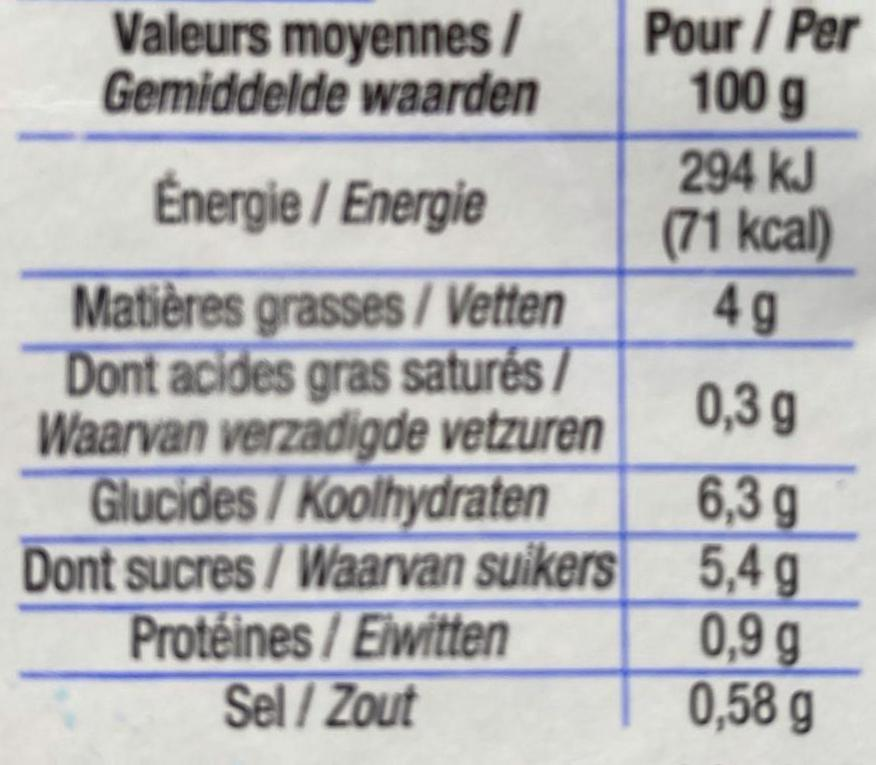column: (26, 10, 616, 735), (638, 9, 858, 729)
line: (29, 10, 858, 122), (28, 150, 833, 259), (30, 359, 835, 452), (35, 687, 833, 736), (26, 283, 833, 331), (22, 546, 835, 591), (24, 618, 835, 659), (31, 482, 837, 520)
table: (12, 1, 873, 751)
